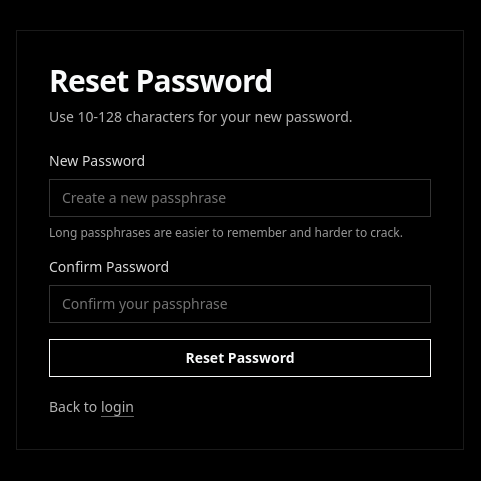
/forgot-password/reset page › enforces match and minimum length validations
In the password field labelled "New Password": (240, 198) [49,179,431,217], type "long-enough-passphrase"
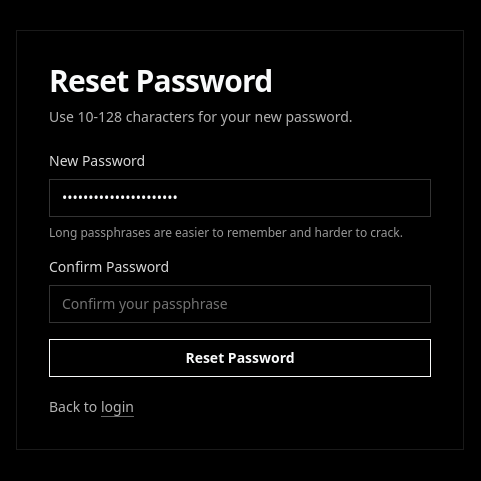
In the password field labelled "Confirm Password": (240, 304) [49,285,431,323], type "different-passphrase"
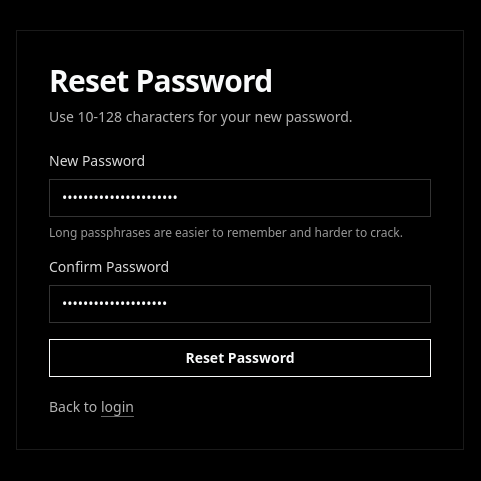
Click the button "Reset Password": (240, 358) [49,339,431,377]
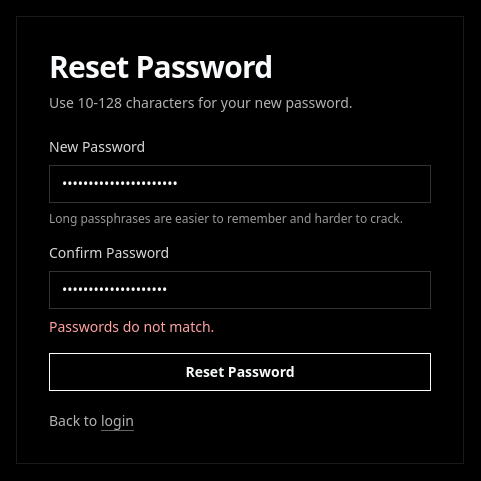
Check: the text "Passwords do not match." is shown, box [49,317,214,336]
In the password field labelled "New Password": (240, 184) [49,165,431,203], type "short"
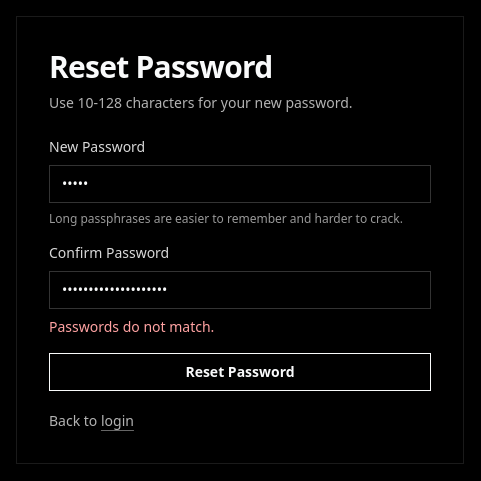
In the password field labelled "Confirm Password": (240, 290) [49,271,431,309], type "short"
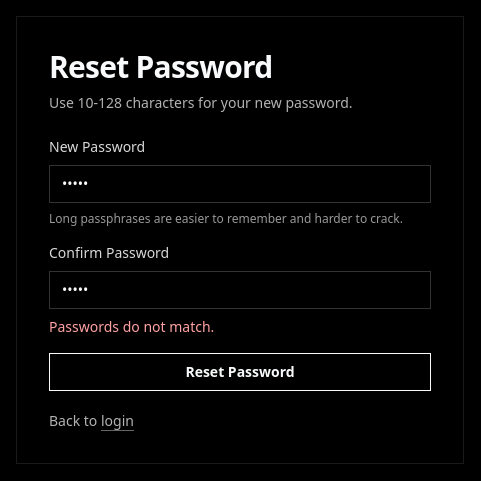
Click the button "Reset Password": (240, 372) [49,353,431,391]
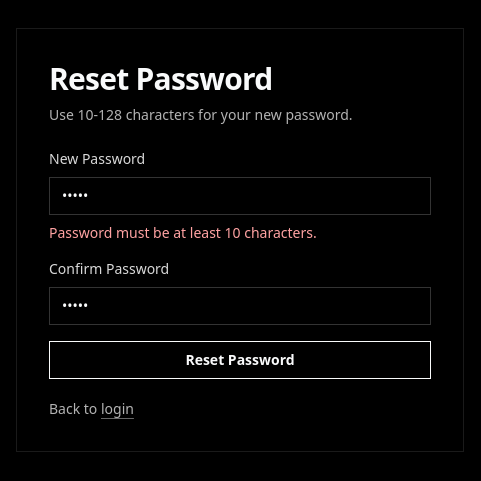
Check: the text "Password must be at least 10 characters." is shown, box [49,223,317,242]
